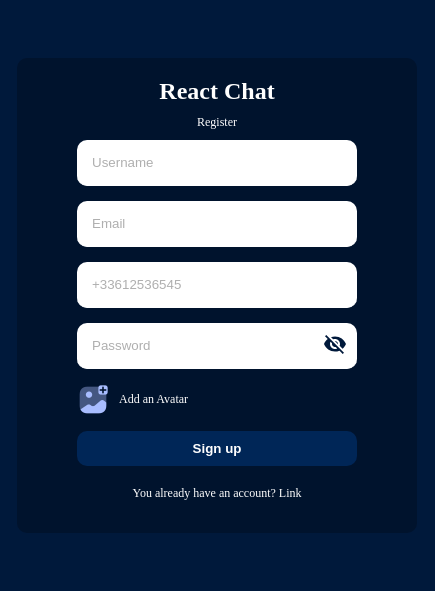
Test: <Register/> › Shows error when password is weak
In the field with placeholder "Username": (217, 162) x1=77 y1=140 x2=357 y2=186, type "testuser"
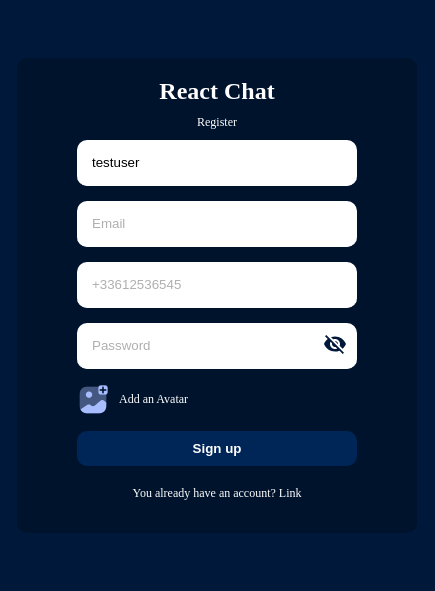
In the field with placeholder "Email": (217, 224) x1=77 y1=200 x2=357 y2=246, type "test@test.com"
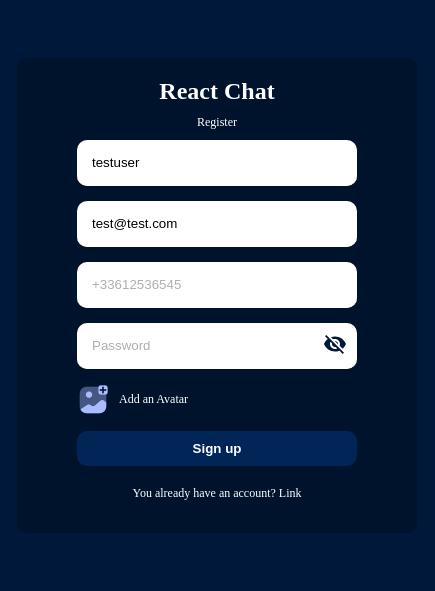
In the field with placeholder "+33612536545": (217, 284) x1=77 y1=262 x2=357 y2=308, type "+1234567890"
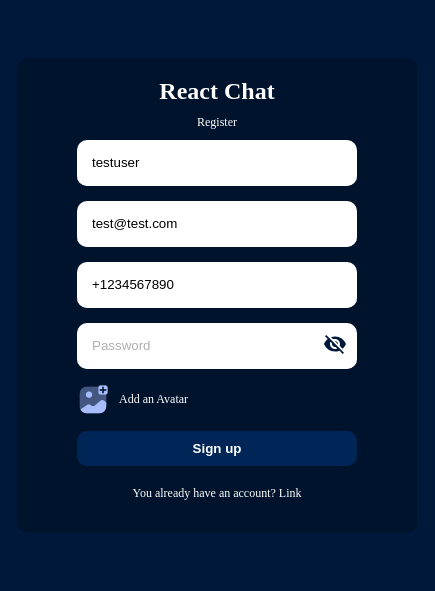
In the password field with placeholder "Password": (217, 346) x1=77 y1=322 x2=357 y2=368, type "test"
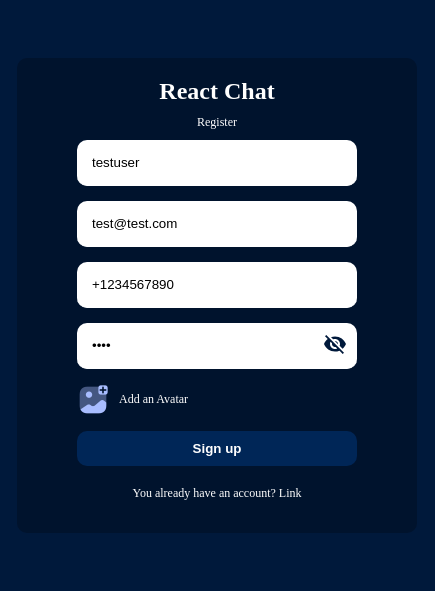
Click the button "Sign up": (217, 448) x1=77 y1=430 x2=357 y2=466
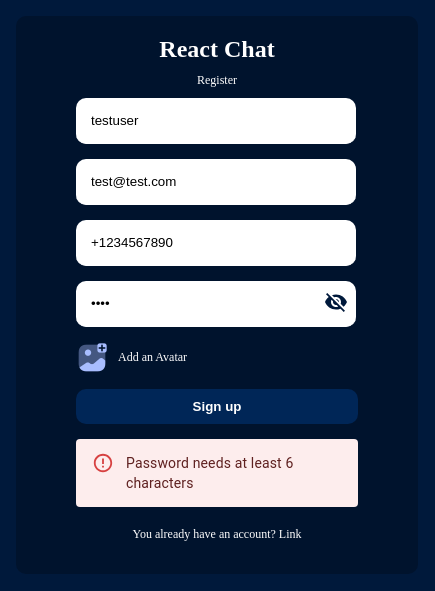
Now the text "Password needs at least 6 characters" is shown, box x1=126 y1=455 x2=294 y2=491
